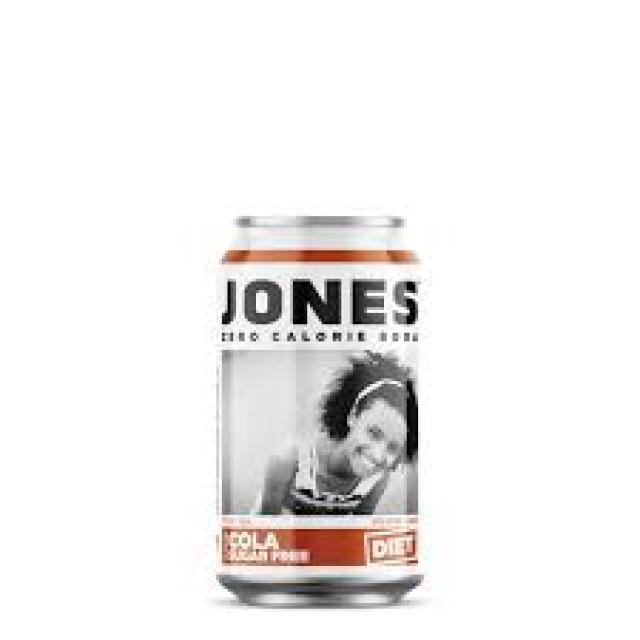Cans: (208, 202, 441, 617)
